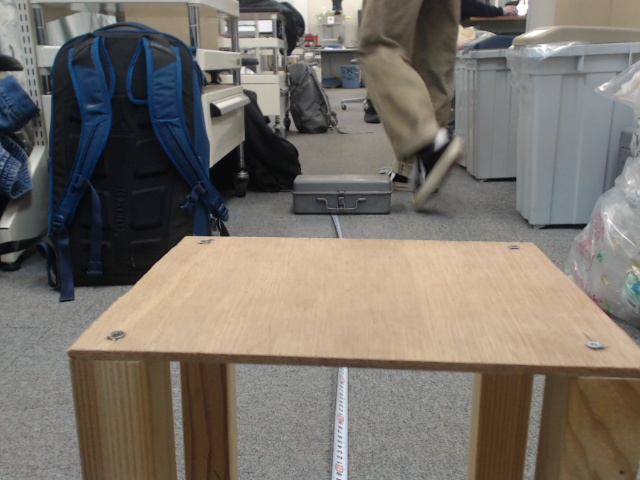desk: (270, 190, 515, 449)
